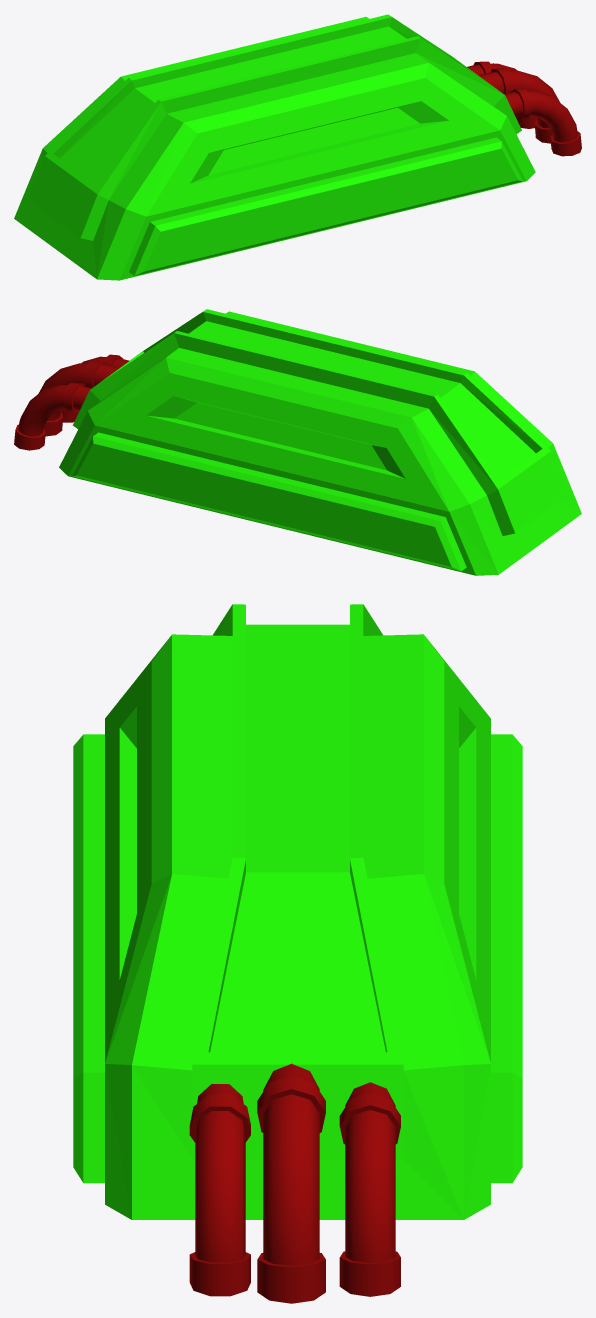
File: LP_Cannon_Pressuriser_Mesh.FBX
3 renders of one model, top to bottom at view 1: azimuth 30°, elevation 25°; view 2: azimuth 150°, elevation 25°; view 3: azimuth 270°, elevation 25°, orthographic. The views are drawn at different scales.
Parts seen in each view (by area): view 1: L_cannon presherizer001; view 2: L_cannon presherizer001; view 3: L_cannon presherizer001.
Boxes of the visible parts, x1,y1,x2,y2 form: L_cannon presherizer001: (14,14,581,280); L_cannon presherizer001: (14,309,581,575); L_cannon presherizer001: (73,604,522,1303).
Size of the model in its own units: 83.02 by 22.46 by 31.55.
